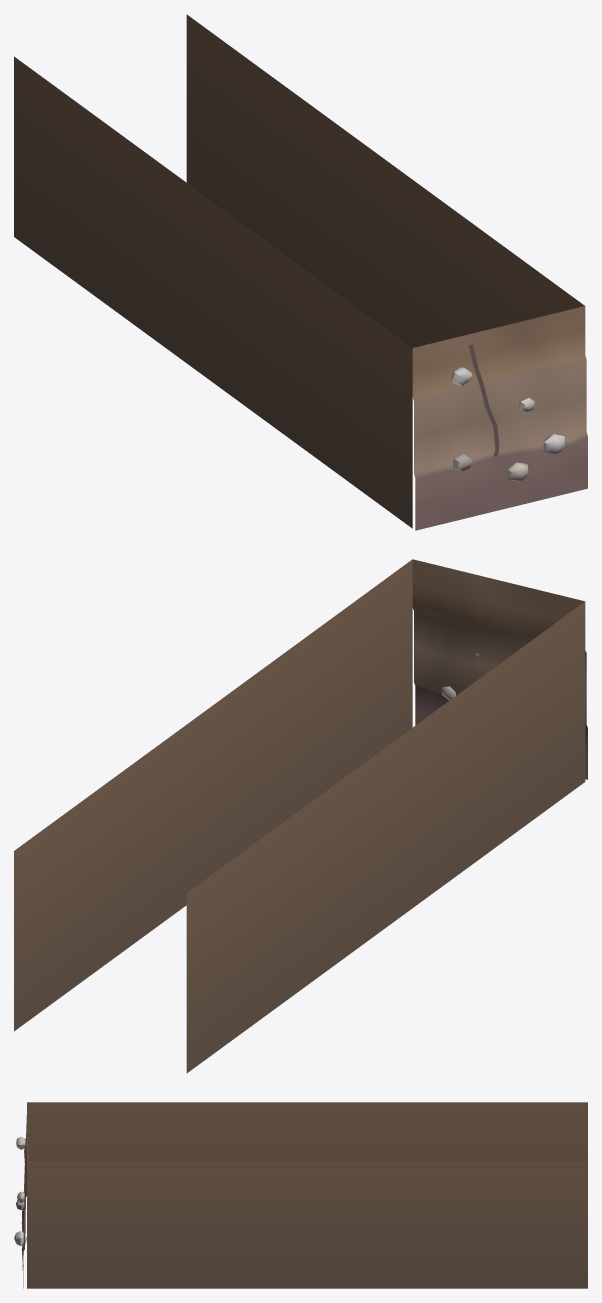
File: ground_deep_2.glb
3 renders of one model, top to bottom at view 1: azimuth 30°, elevation 25°; view 2: azimuth 150°, elevation 25°; view 3: azimuth 270°, elevation 25°, orthographic. The views are drawn at different scales.
Visible parts, largest first — view 1: ground_deep_2; view 2: ground_deep_2; view 3: ground_deep_2.
Boxes of the visible parts, x1=… form: ground_deep_2: x1=14, y1=14, x2=587, y2=530; ground_deep_2: x1=14, y1=559, x2=587, y2=1073; ground_deep_2: x1=14, y1=1102, x2=587, y2=1288.
Size of the model in its own units: 1 by 1 by 4.09.
